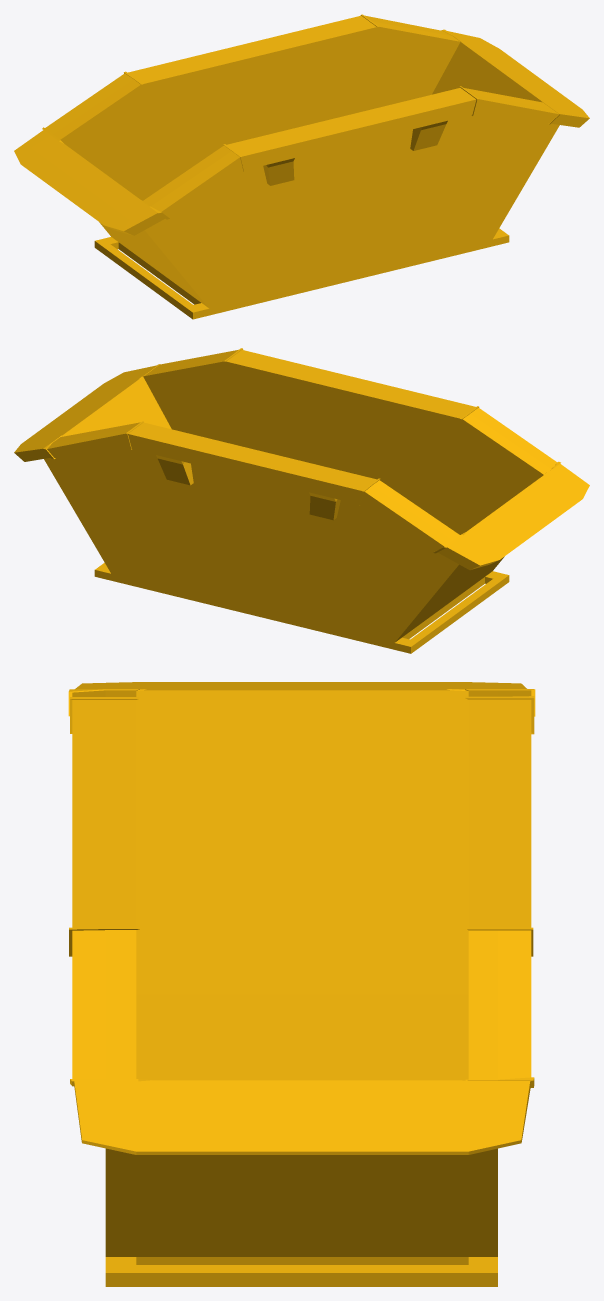
File: EP_Skip_001.fbx
The picture shows the model from 3 angles, top to bottom: view 1: azimuth 30°, elevation 25°; view 2: azimuth 150°, elevation 25°; view 3: azimuth 270°, elevation 25°; orthographic projection. The views are drawn at different scales.
Visible parts, largest first — view 1: Skip; view 2: Skip; view 3: Skip.
Part boxes in pixels (x1,y1,x2,y2): Skip: (14,14,589,319); Skip: (14,348,589,653); Skip: (68,682,535,1286).
Bounding box in the file's own units: 1237 × 394 × 522.
